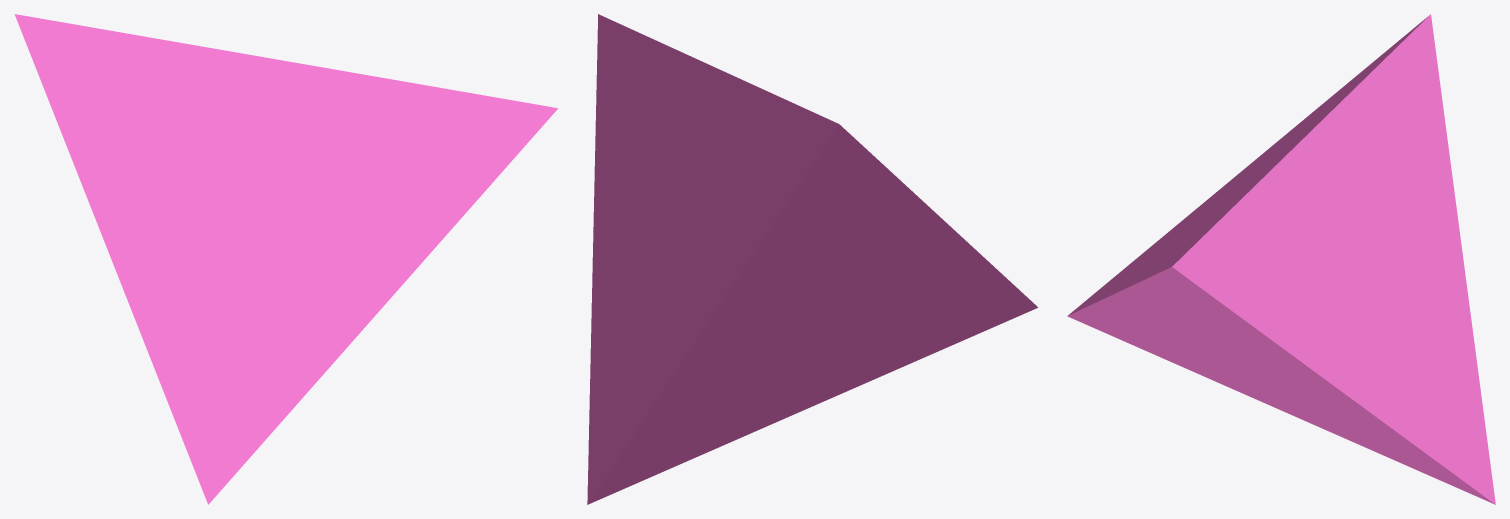
The model's file is InfoObras_Desaparecidos.gltf.
The picture shows the model from 3 angles, left to right: view 1: azimuth 30°, elevation 25°; view 2: azimuth 150°, elevation 25°; view 3: azimuth 270°, elevation 25°; orthographic projection. The views are drawn at different scales.
Visible parts, largest first — view 1: InfoObras_Desaparecidos; view 2: InfoObras_Desaparecidos; view 3: InfoObras_Desaparecidos.
Part boxes in pixels (x1,y1,x2,y2): InfoObras_Desaparecidos: (14, 14, 557, 504); InfoObras_Desaparecidos: (587, 14, 1037, 504); InfoObras_Desaparecidos: (1067, 14, 1495, 504).
Bounding box in the file's own units: 0.2431 × 0.2466 × 0.2459.
